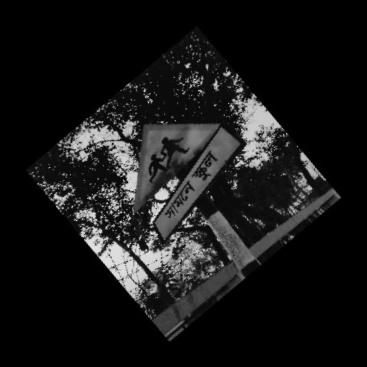School-in-front: (138, 122, 243, 243)
